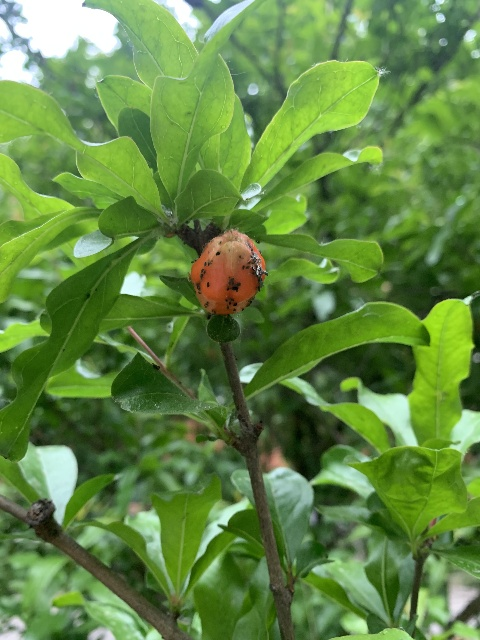bud: (191, 230, 264, 315)
